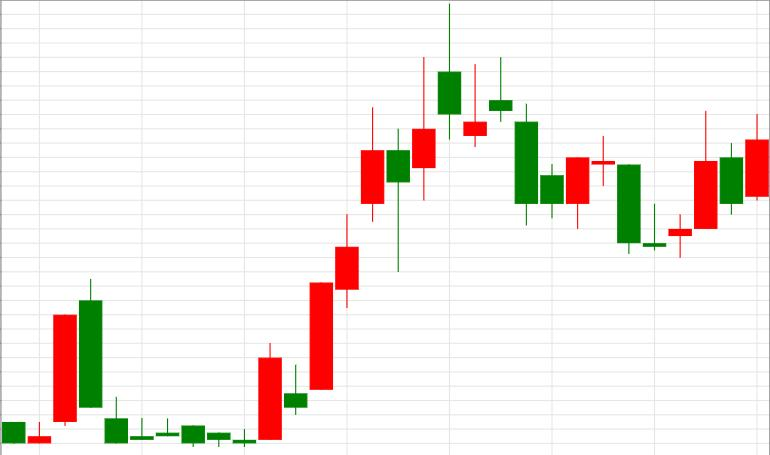shooting_star_fall: (258, 3, 461, 439)
